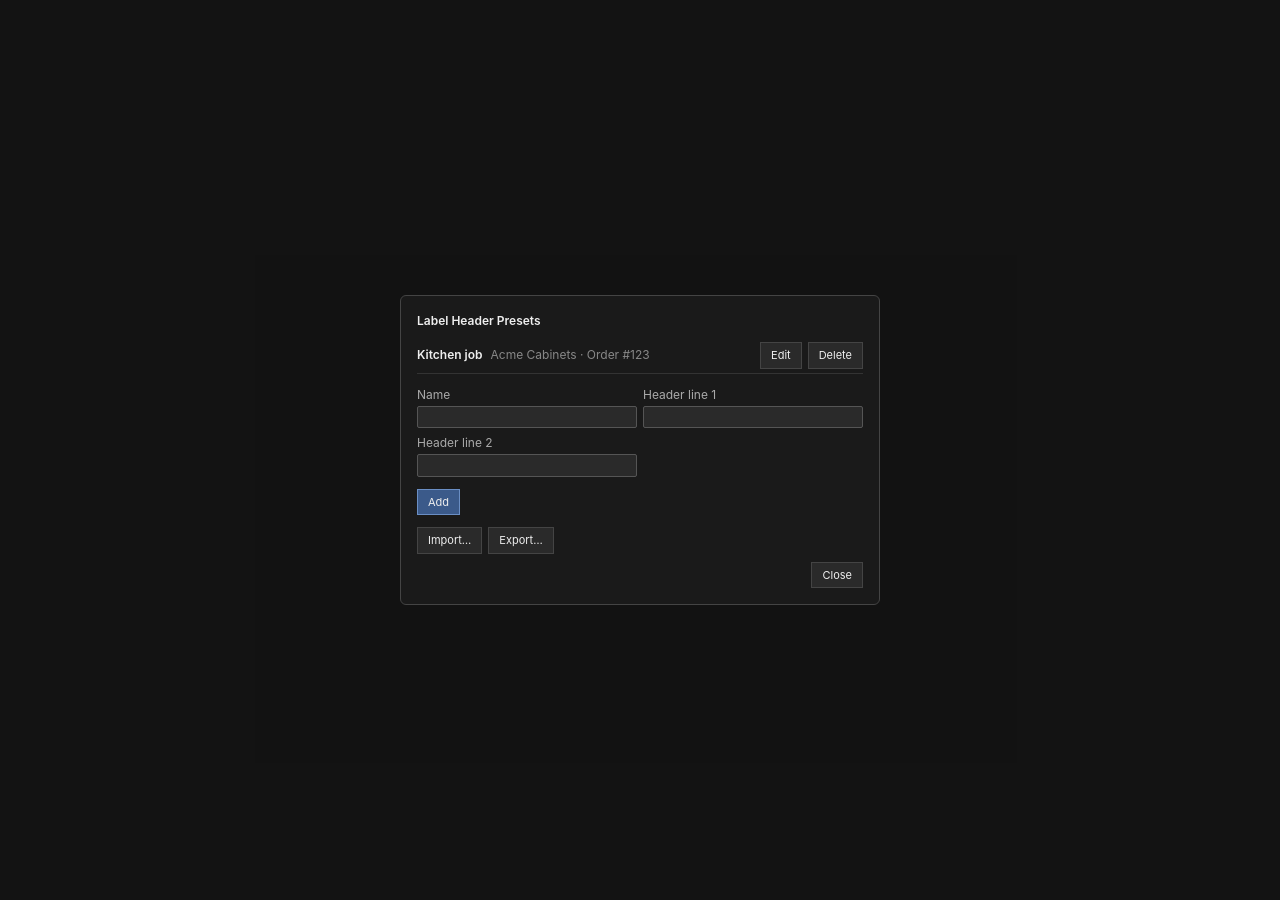
Scenario: LabelHeaderPresetsDialog › import with an invalid entry shows an error and leaves the store unchanged (atomic)
Click the button "Import…" at coordinates (450, 540), box [417,527,482,554]
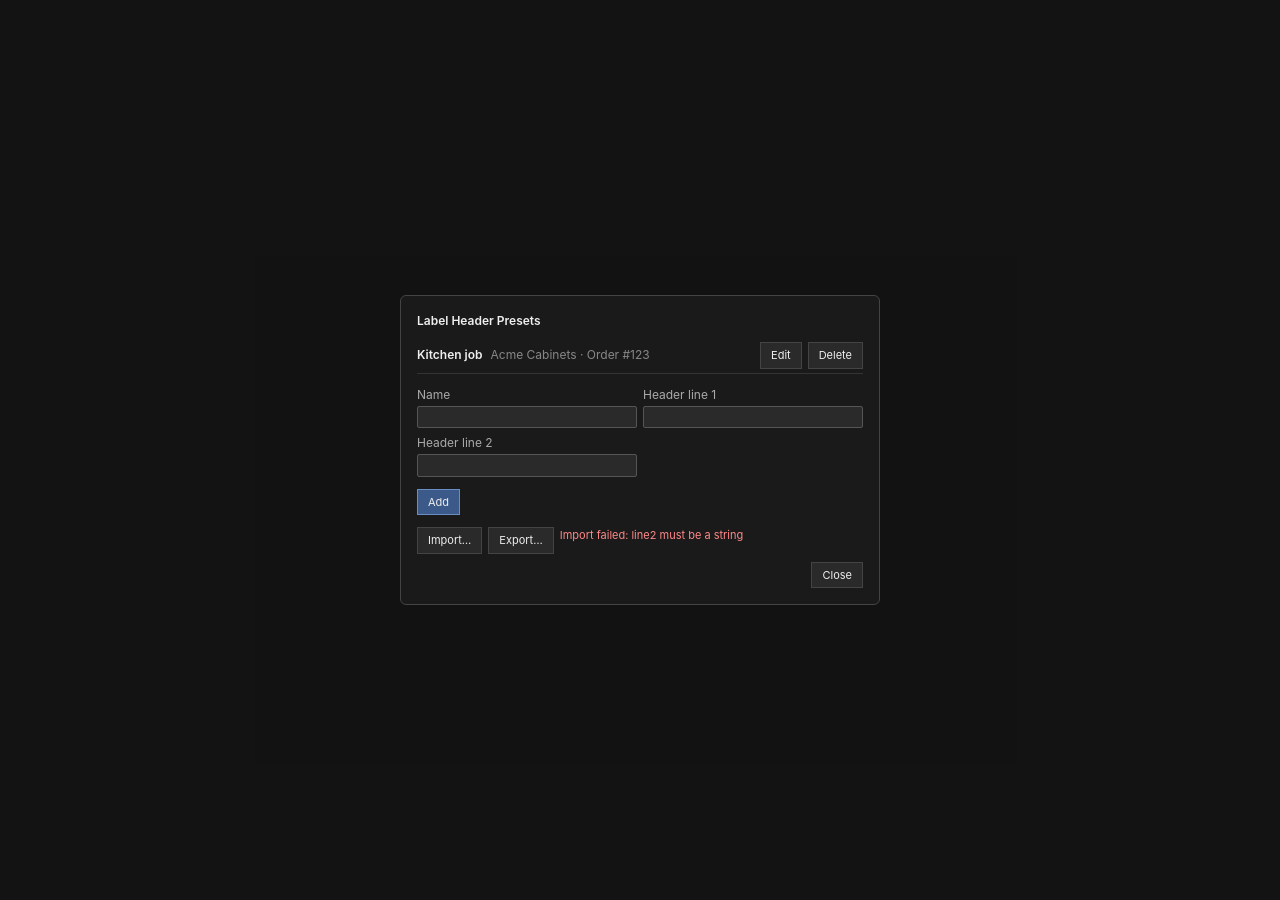
expect the message shows "Import failed": met, box [560,528,743,542]
